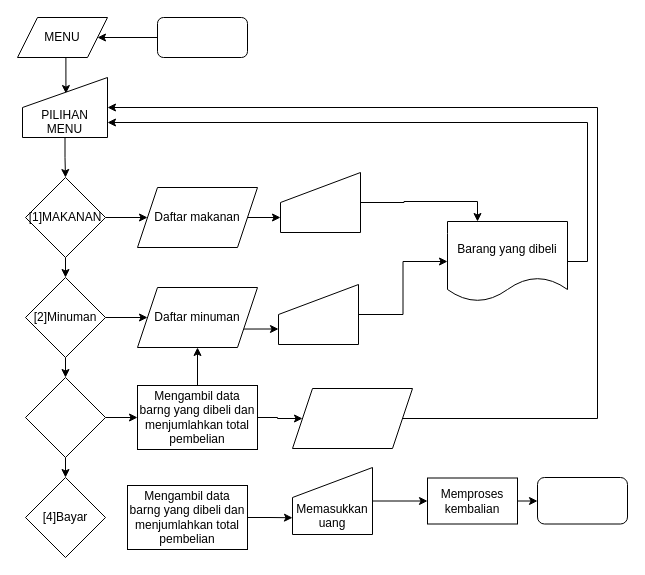
Image size: 645x575. Some labels were removed from this diagram. The centre of each missing label's shape, as x and y in pixels:
[3]Total pembelian: pixel 65 417
Pilihan makanan: pixel 320 202
Pilihan minuman: pixel 318 314
Program selesai: pixel 582 500
START: pixel 202 37
Total pembelian: pixel 352 418
